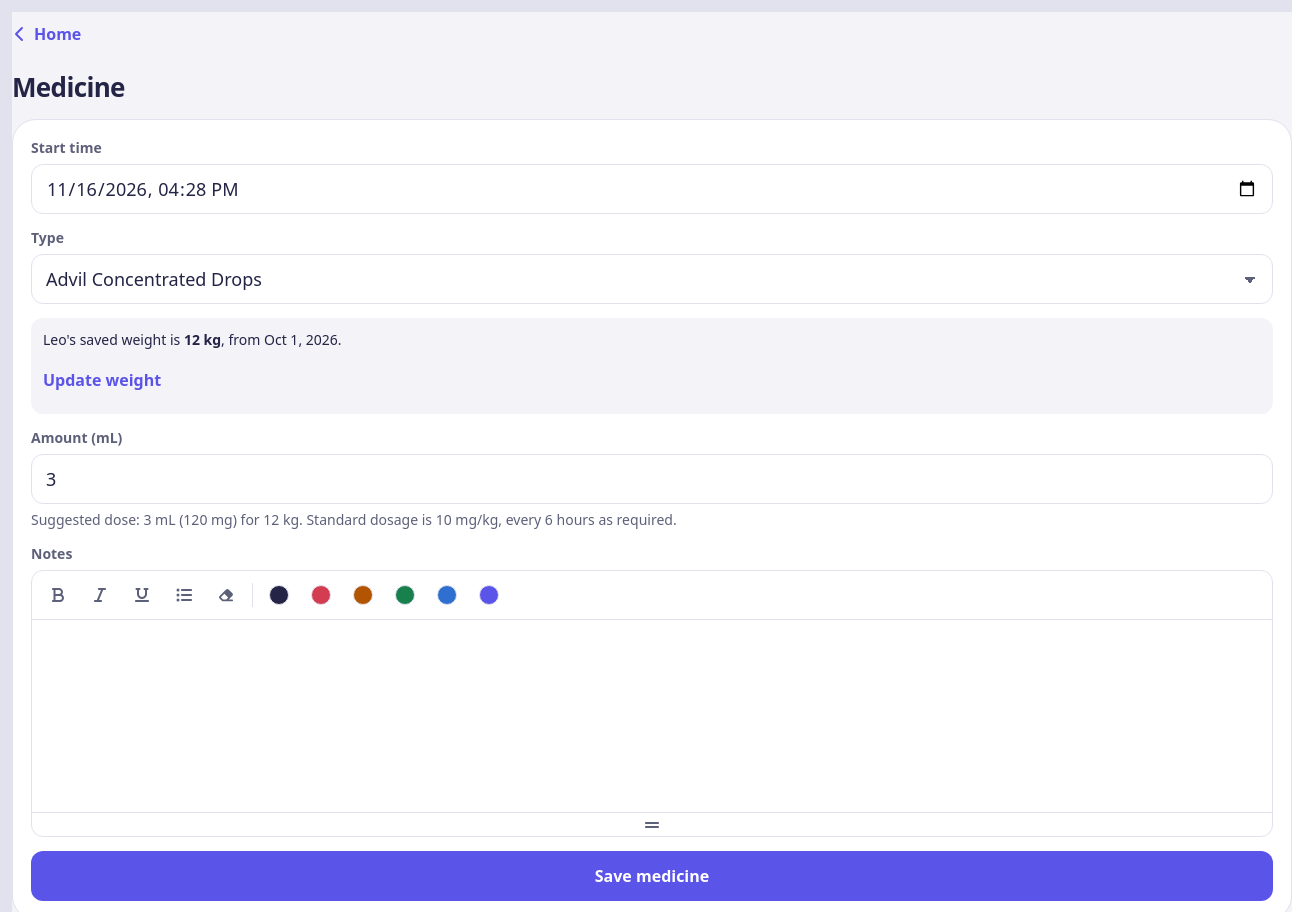
Test case: MedicineLogPage › updates the suggestion when the medicine changes
Select "Tylenol Children's Liquid" in the dropdown labelled "Type" at (652, 279), box [31,254,1273,304]
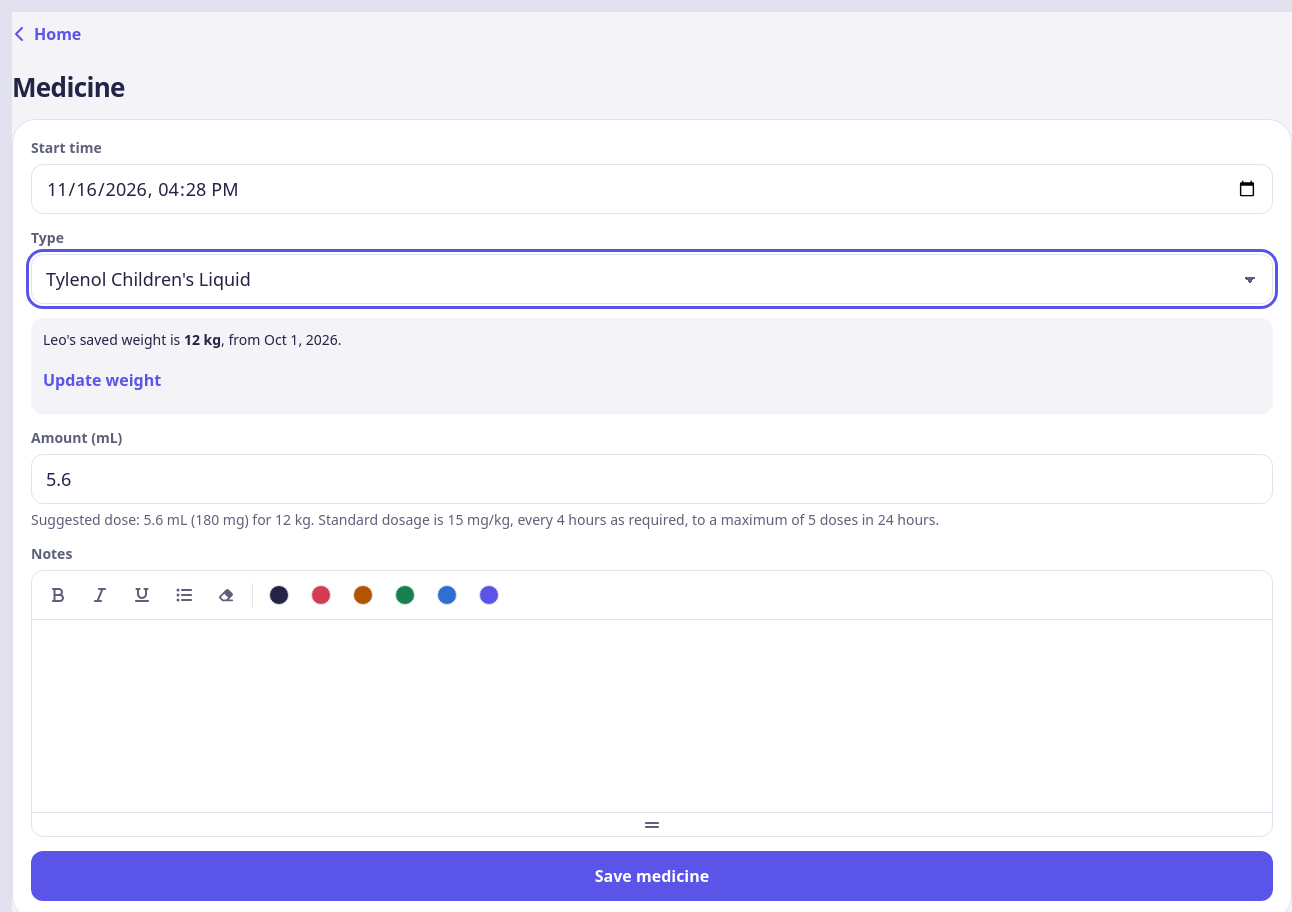
Check: the number field labelled "Amount (mL)" holds "5.6", box [31,454,1273,504]
